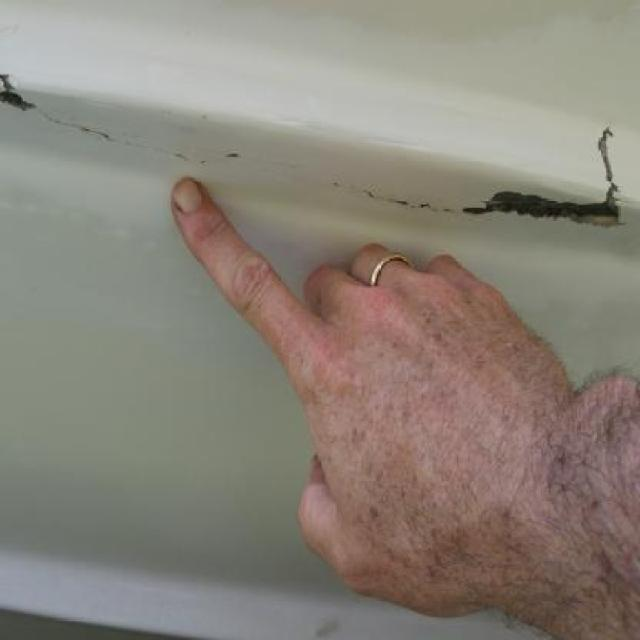crack: (0, 69, 304, 169), (460, 123, 621, 230), (278, 174, 461, 217)
